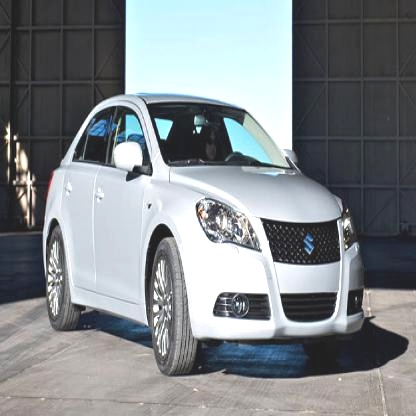Vehicle: (42, 91, 367, 382)
